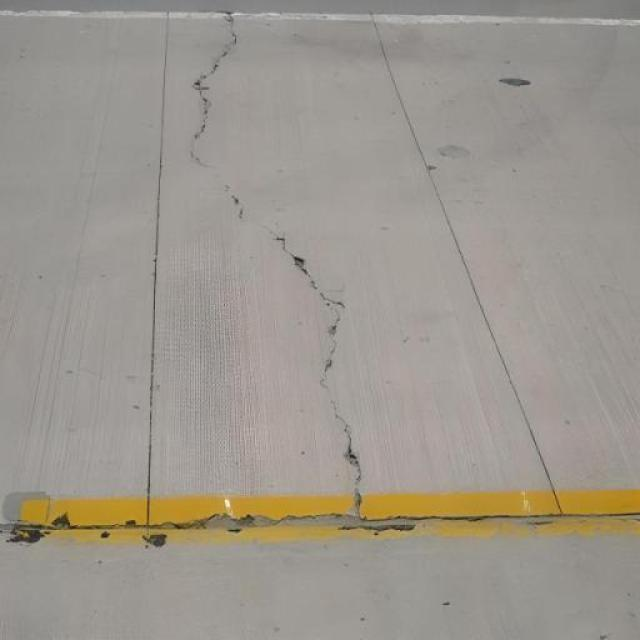moderate crack: (8, 13, 144, 512), (266, 220, 359, 507), (143, 12, 168, 531), (8, 8, 639, 25), (140, 532, 165, 547), (50, 512, 70, 527), (525, 516, 556, 524), (323, 357, 332, 373), (327, 322, 336, 335), (238, 206, 242, 218)
severe crack: (414, 207, 562, 512), (14, 525, 634, 562), (364, 9, 444, 190), (285, 244, 330, 291), (318, 288, 344, 352), (265, 511, 356, 526), (340, 422, 360, 487), (348, 488, 365, 521), (244, 512, 276, 527), (195, 512, 226, 527), (248, 11, 287, 18), (192, 81, 209, 93), (290, 253, 303, 266), (228, 29, 236, 48), (274, 234, 286, 245), (223, 10, 232, 22)
